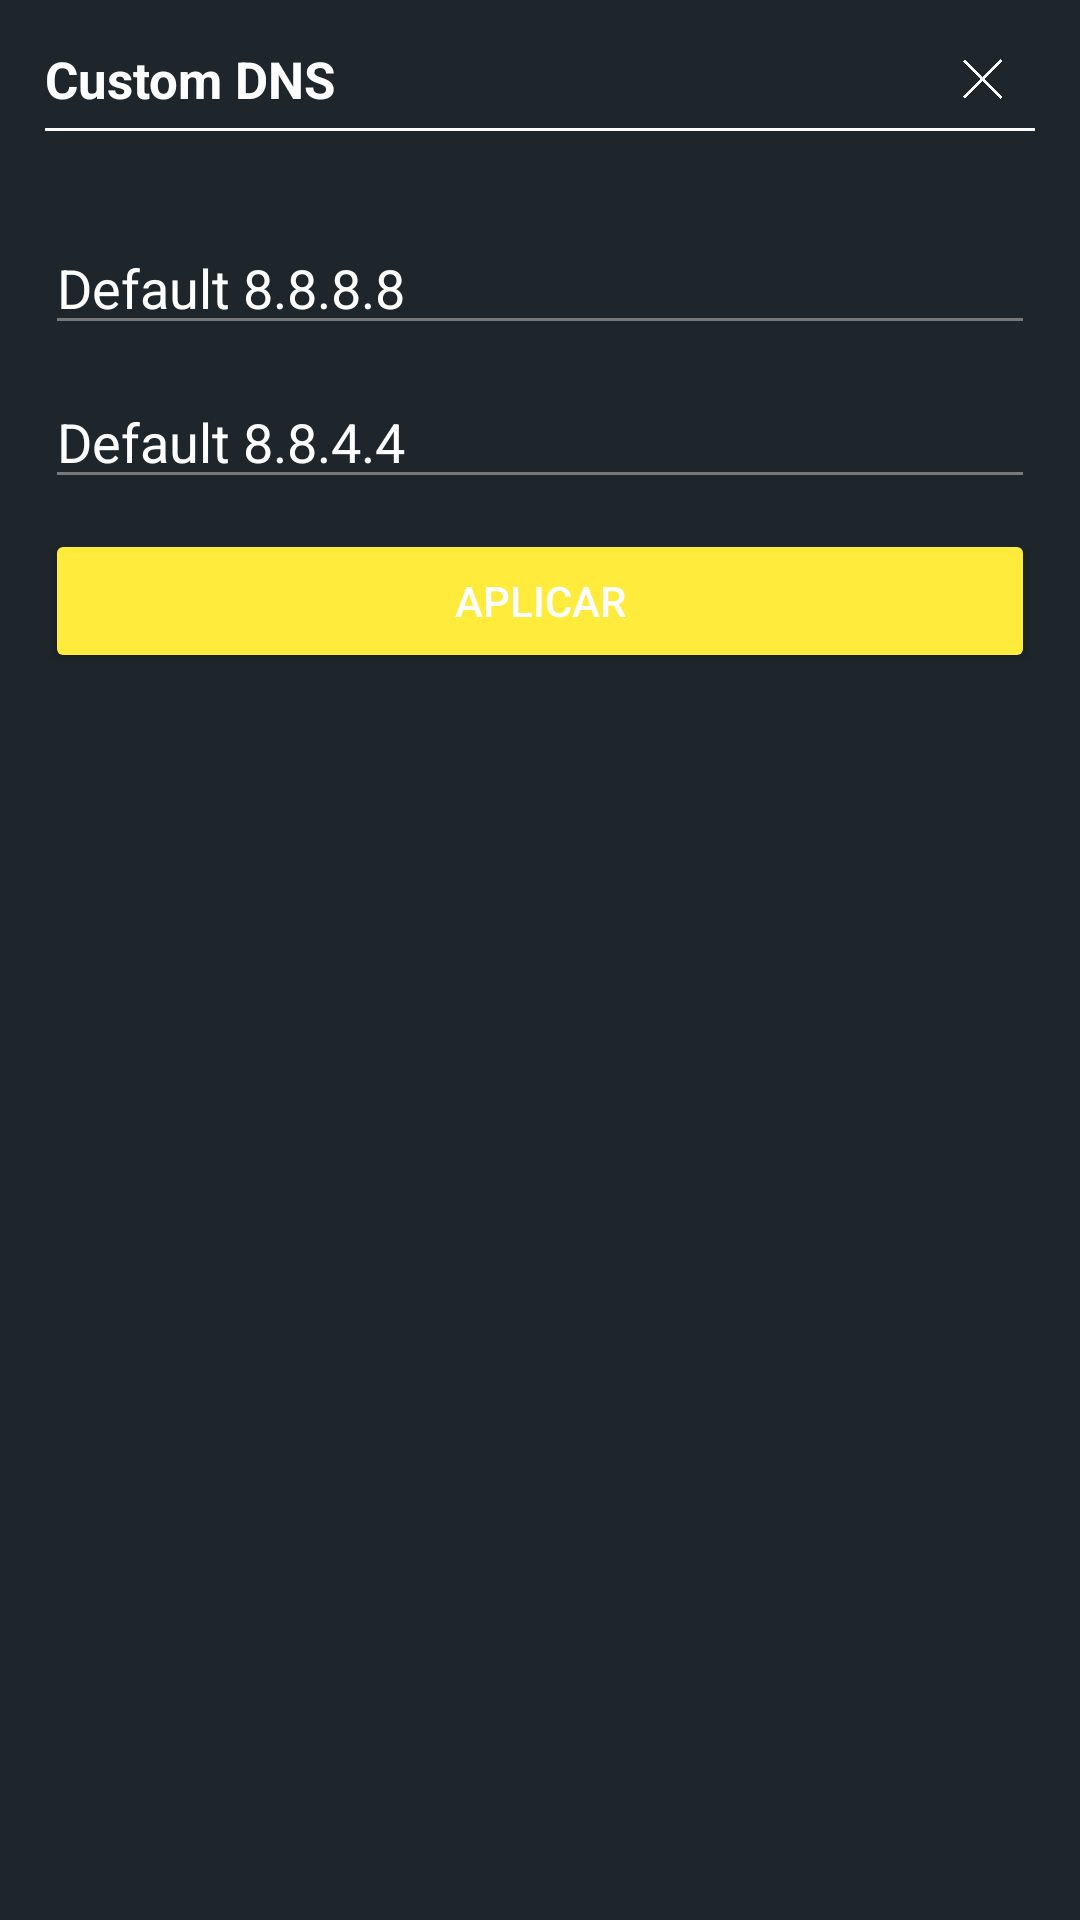

Icons on this 1080px×1920px Android screen, each with the point to tap as (x,y):
salir: (982,79)
